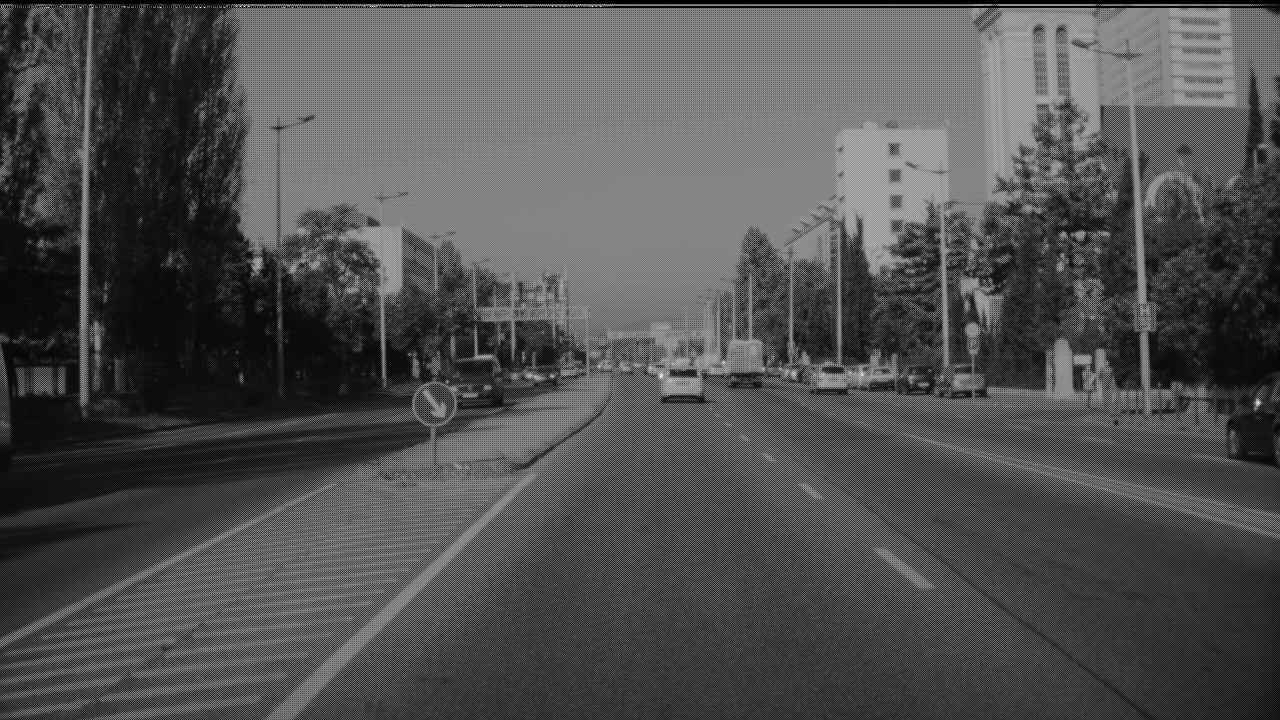pole: (128, 32, 159, 408), (1187, 1, 1202, 400), (996, 113, 1006, 388), (332, 151, 342, 357), (894, 182, 902, 375), (438, 207, 445, 354), (486, 238, 492, 355)
